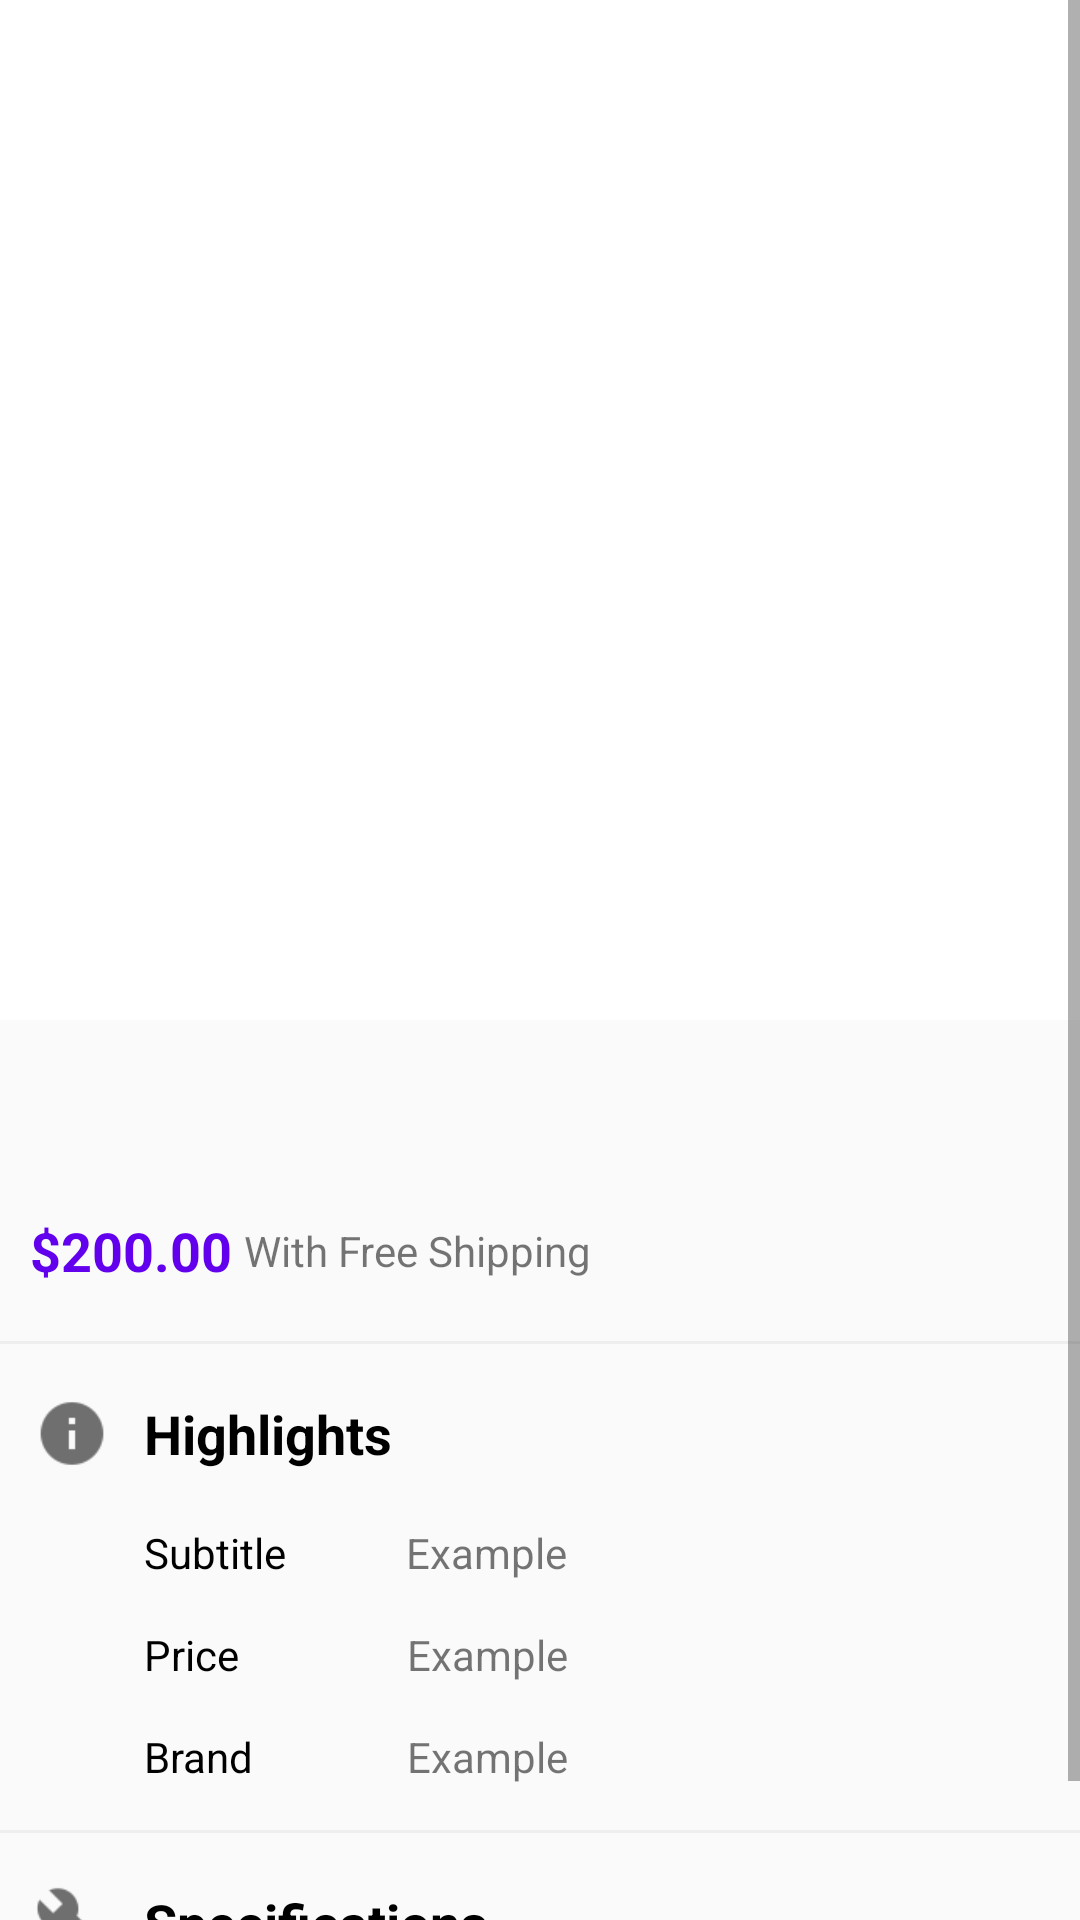

Point at icon controls on the screen. Image size 1080px×1920px, points as (x=x, y=y).
information: (x=72, y=1433)
